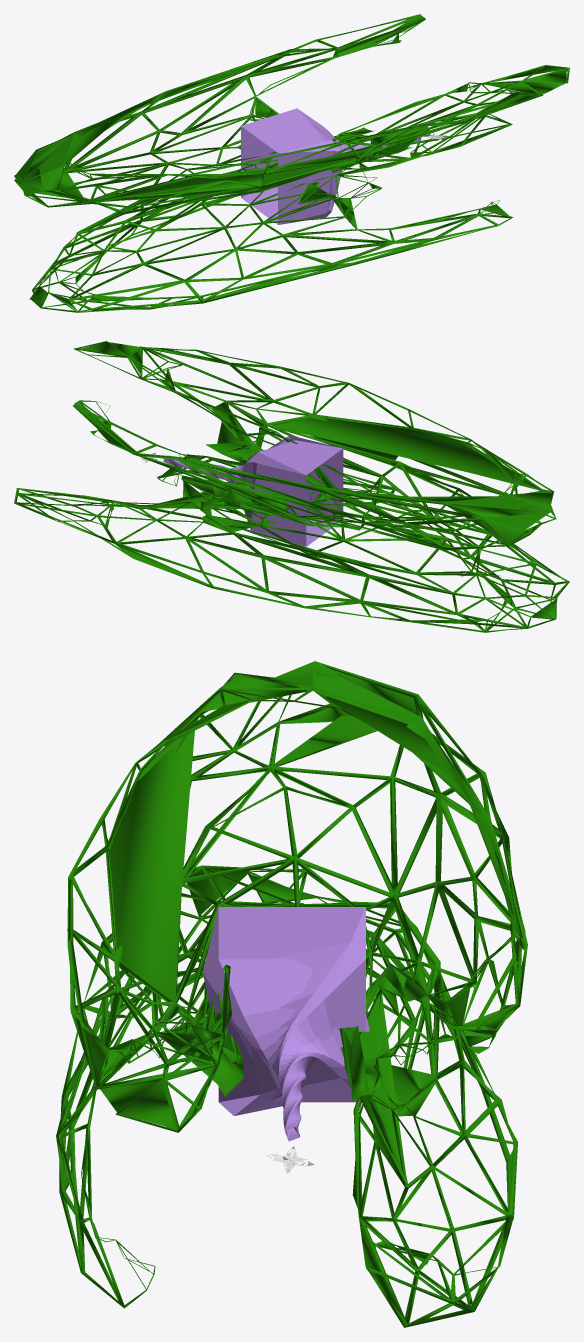
File: tun.gltf
3 renders of one model, top to bottom at view 1: azimuth 30°, elevation 25°; view 2: azimuth 150°, elevation 25°; view 3: azimuth 270°, elevation 25°, orthographic. The views are drawn at different scales.
Parts seen in each view (by area): view 1: Куб.001, Куб; view 2: Куб.001, Куб; view 3: Куб.001, Куб.
Part boxes in pixels (x1=…): Куб.001: x1=14, y1=14, x2=569, y2=312; Куб: x1=241, y1=108, x2=421, y2=224; Куб.001: x1=14, y1=341, x2=569, y2=632; Куб: x1=163, y1=435, x2=343, y2=546; Куб.001: x1=56, y1=661, x2=527, y2=1327; Куб: x1=203, y1=907, x2=369, y2=1141.
Bounding box in the file's own units: 2455 × 705 × 978.
